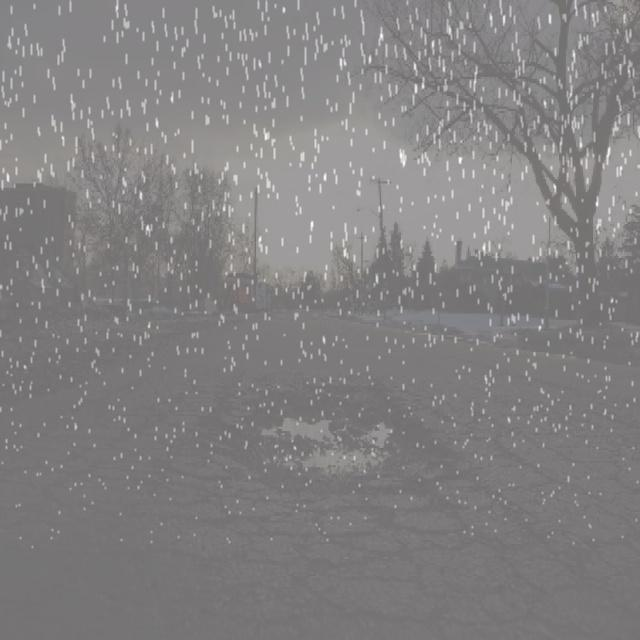Pothole: (187, 378, 453, 510)
